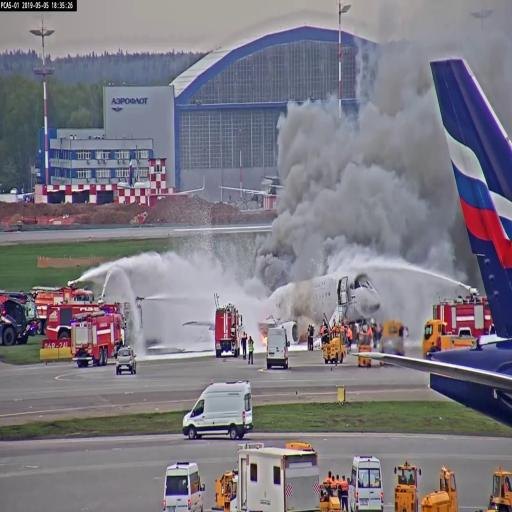smoke: (280, 102, 384, 250), (393, 119, 452, 286)
